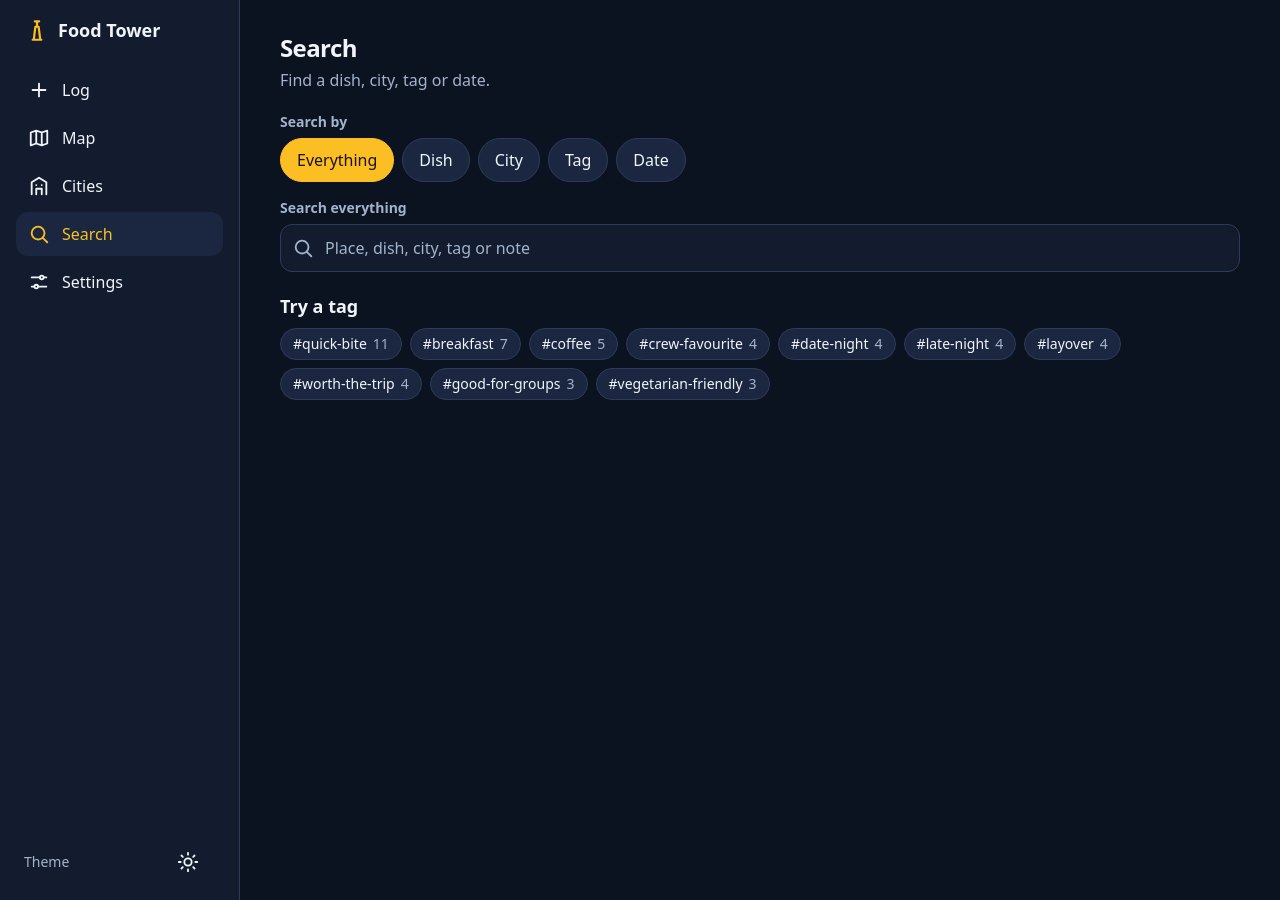
Test: Search › searches by dish
Expected: the heading "Search" is shown, [280,31,357,64]
Click the radio button labelled "Dish": click(436, 160) [402,138,470,182]
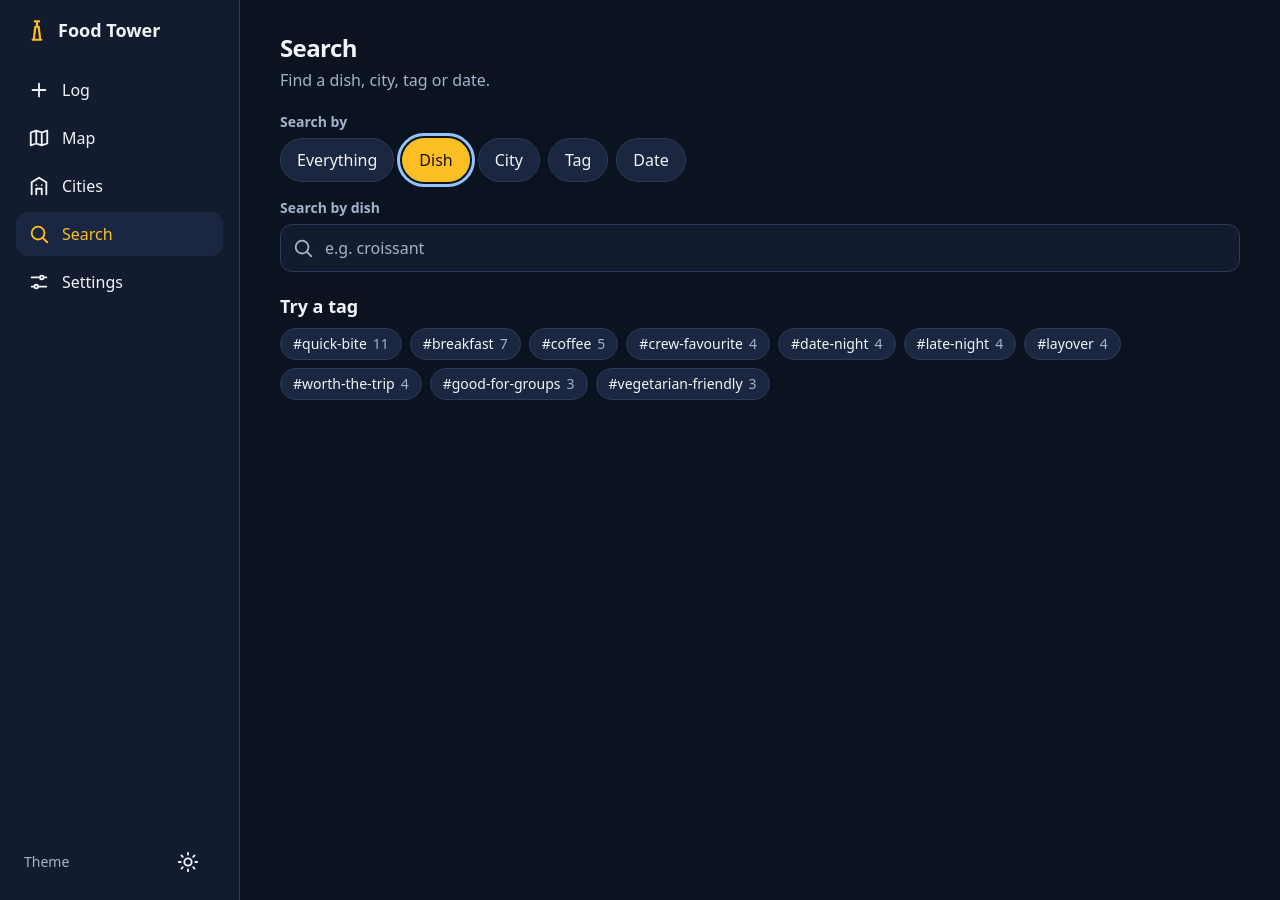
In the search field labelled "Search by dish": (760, 248) [280,224,1240,272], type "croissant"
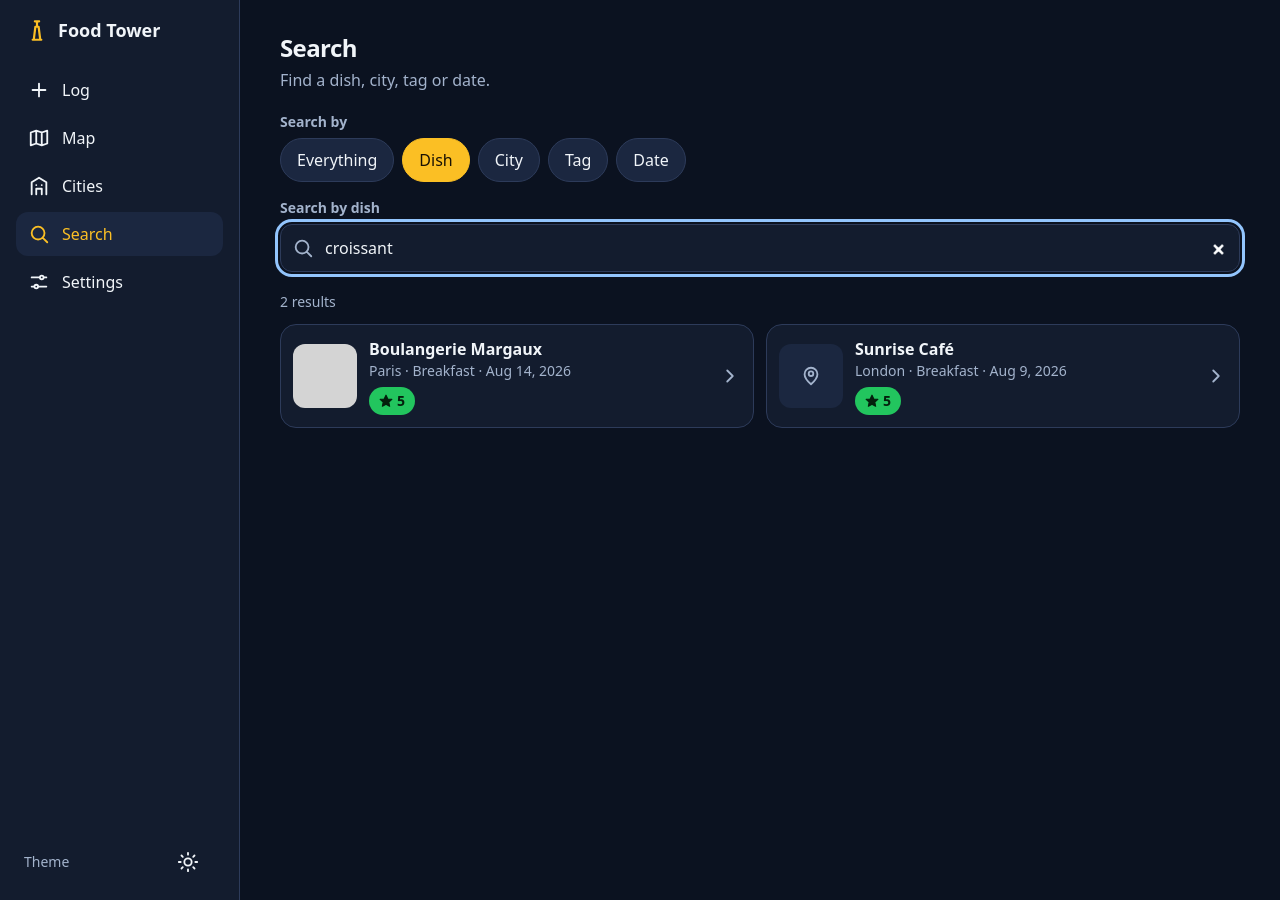
Now the list item "Boulangerie Margaux Paris · Breakfast · Aug 14, 2026 5" is shown, box [280,324,754,428]
